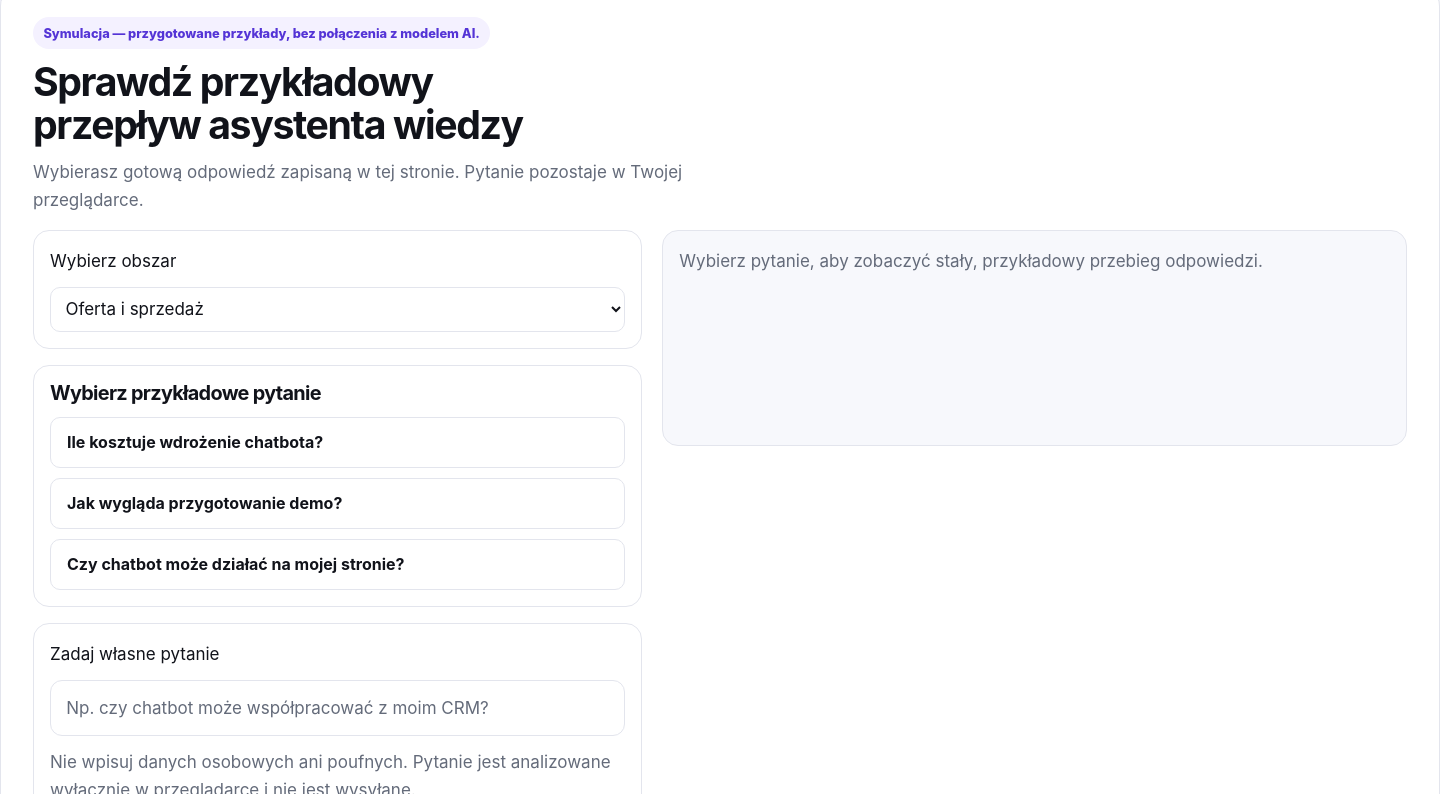
Test: KnowledgeDemoComponent › shows fallback for an unmatched question and links to the demo contact form
The image size is (1440, 794).
Type "jaka jutro pogoda" into the field with id "custom-question" at (338, 708), box [50, 680, 625, 736]
(page scrolled)
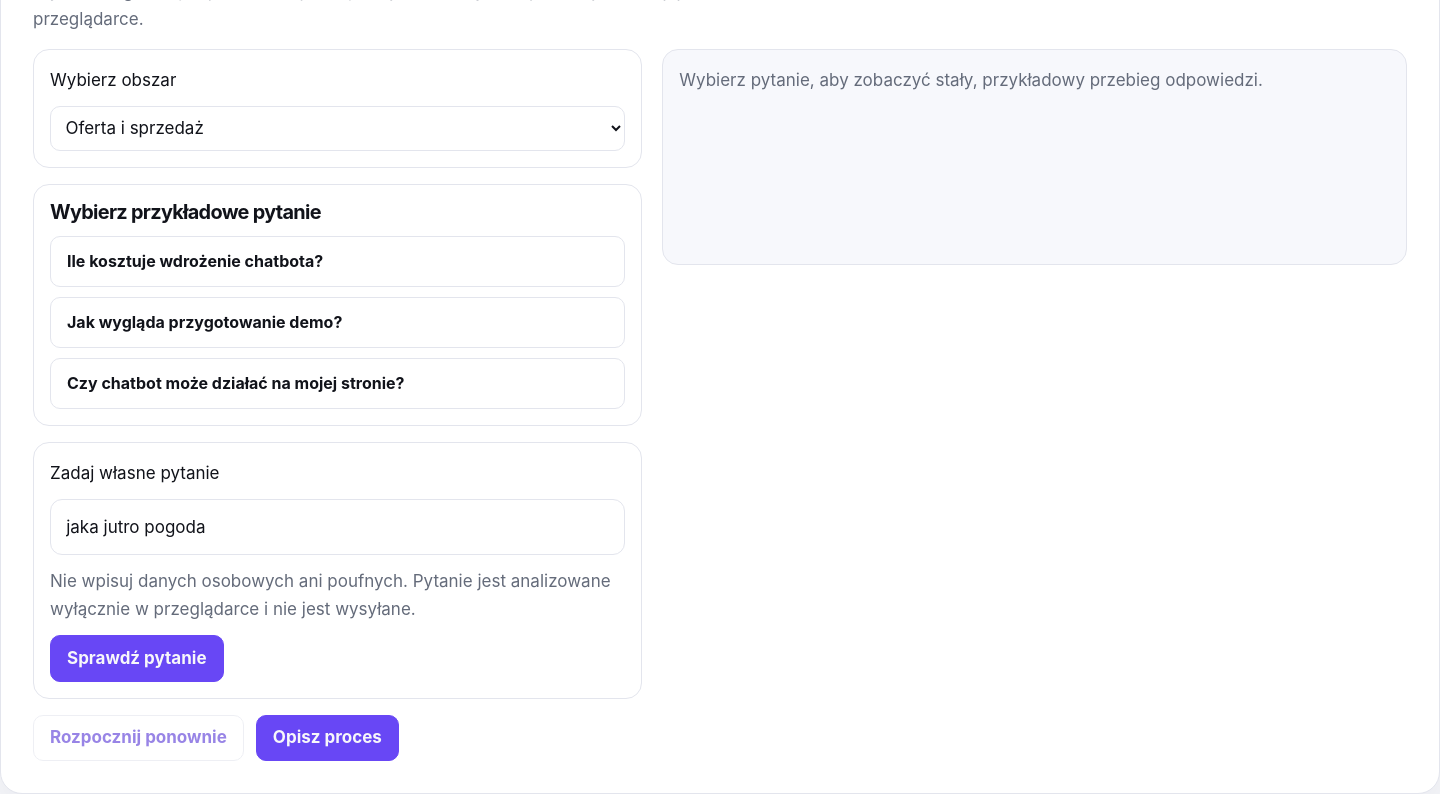
Submit the form with class "custom-question-form", box [33, 442, 642, 699]
(page scrolled)
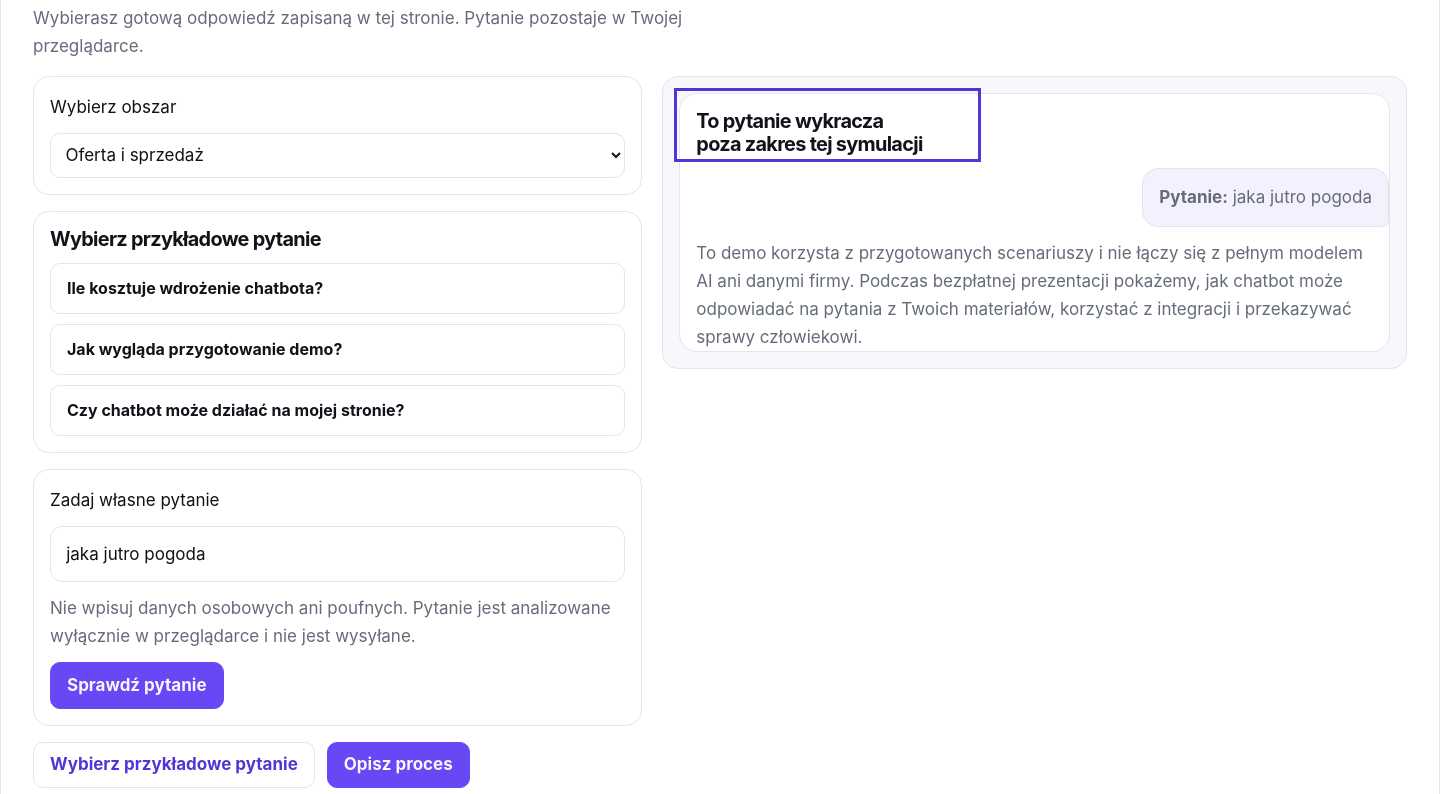
Expected: the link to "/kontakt?projectType=rag_chatbot_demo" is shown, [327, 742, 470, 788]
Expected: the element with class "answer-card" shows "To pytanie wykracza poza zakres tej symulacji", [696, 109, 923, 156]
